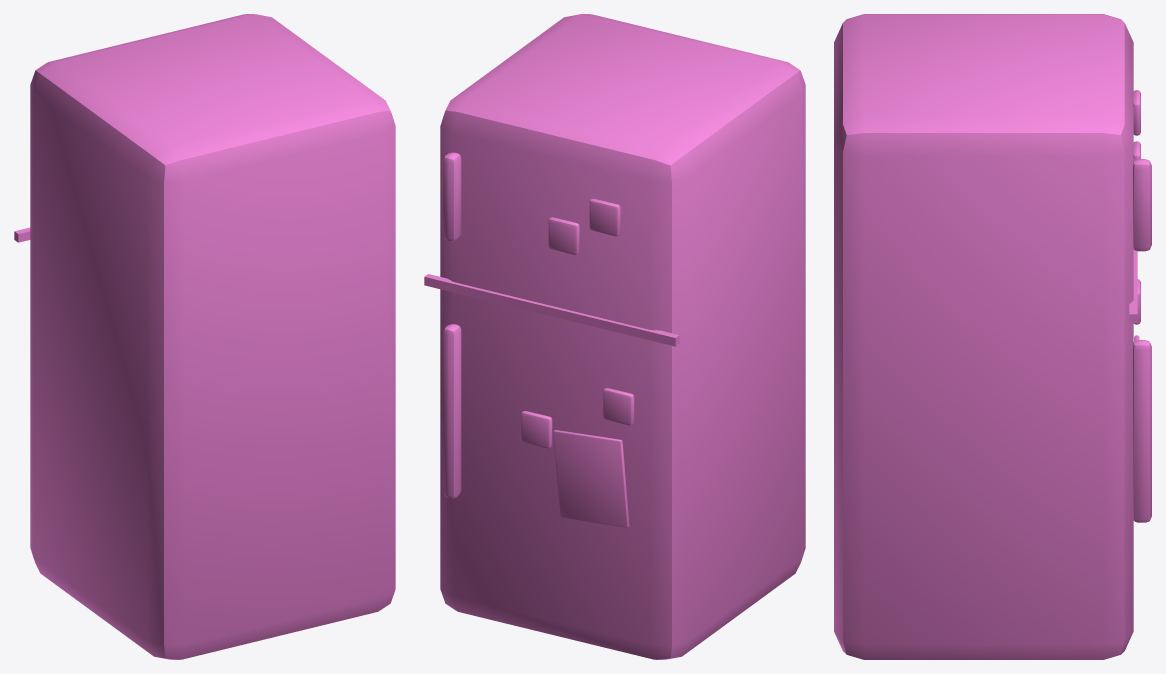
File: Parcel_Fridge.fbx
The picture shows the model from 3 angles, left to right: view 1: azimuth 30°, elevation 25°; view 2: azimuth 150°, elevation 25°; view 3: azimuth 270°, elevation 25°; orthographic projection. The views are drawn at different scales.
Parts seen in each view (by area): view 1: Parcel; view 2: Parcel; view 3: Parcel.
Part boxes in pixels (<box>): Parcel: <box>14,14,395,659</box>; Parcel: <box>424,14,805,659</box>; Parcel: <box>834,14,1151,659</box>.
Size of the model in its own units: 1.84 by 3.6 by 1.91.
Materials: 1 (1 with a texture image).
